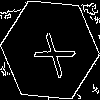X: (25, 25, 77, 79)
